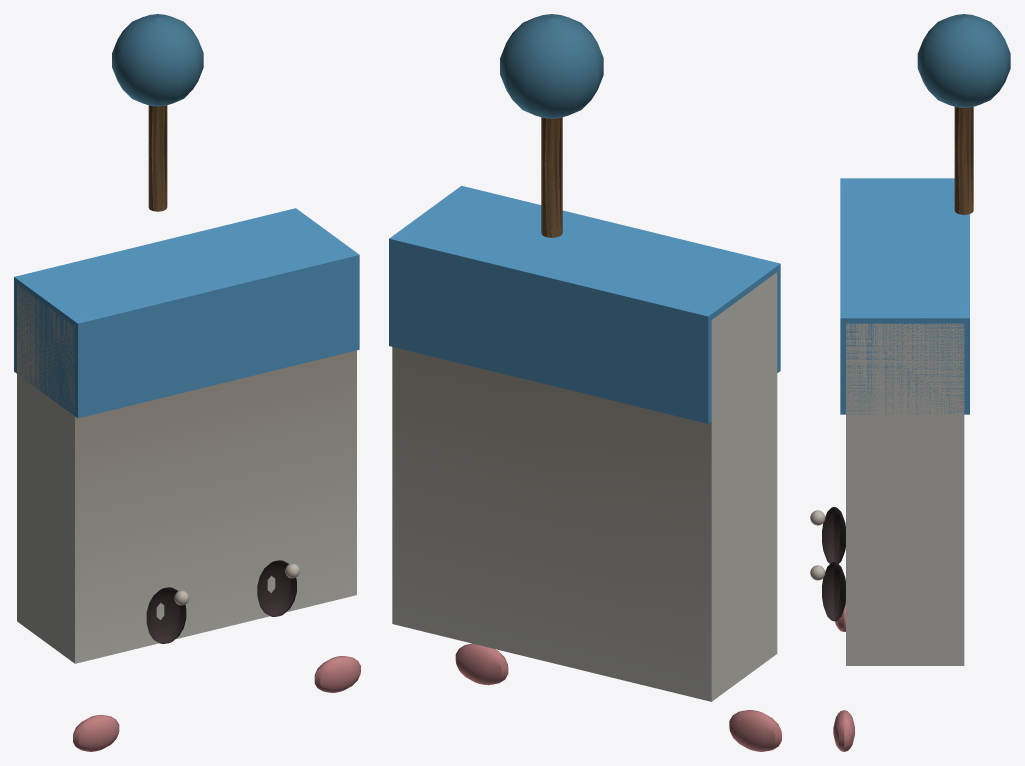
3 views of the same model, side by side, from view 1: azimuth 30°, elevation 25°; view 2: azimuth 150°, elevation 25°; view 3: azimuth 270°, elevation 25° (orthographic). The views are drawn at different scales.
Parts seen in each view (by area): view 1: pet_p93dc9f28; view 2: pet_p93dc9f28; view 3: pet_p93dc9f28.
Boxes of the visible parts, bbox=[...] form: pet_p93dc9f28: bbox=[14, 14, 360, 751]; pet_p93dc9f28: bbox=[389, 14, 781, 751]; pet_p93dc9f28: bbox=[810, 14, 1010, 751].
Size of the model in its own units: 0.2861 by 0.6264 by 0.1698.
